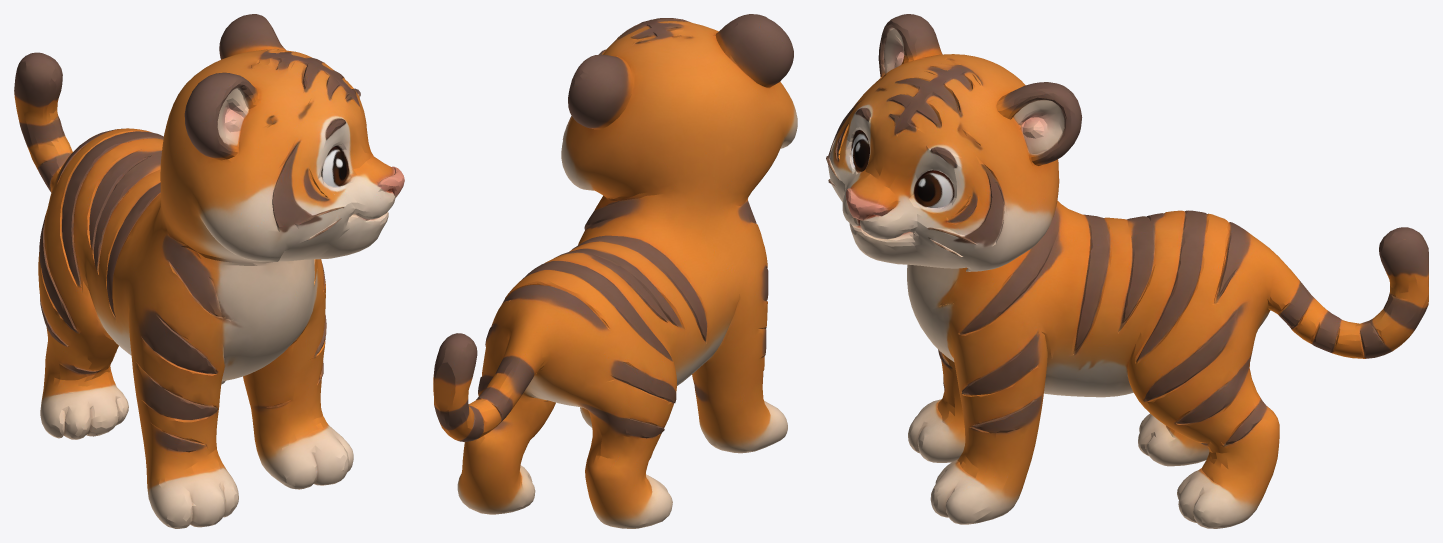
Rendered from tiger.glb.
3 renders of one model, left to right at view 1: azimuth 30°, elevation 25°; view 2: azimuth 150°, elevation 25°; view 3: azimuth 270°, elevation 25°, orthographic. The views are drawn at different scales.
Visible parts, largest first — view 1: Mesh; view 2: Mesh; view 3: Mesh.
Part boxes in pixels (<box>): Mesh: <box>14,14,404,528</box>; Mesh: <box>433,14,797,528</box>; Mesh: <box>826,14,1428,528</box>.
Bounding box in the file's own units: 0.7741 × 1.51 × 1.89.
Materials: 1 (1 with a texture image).
